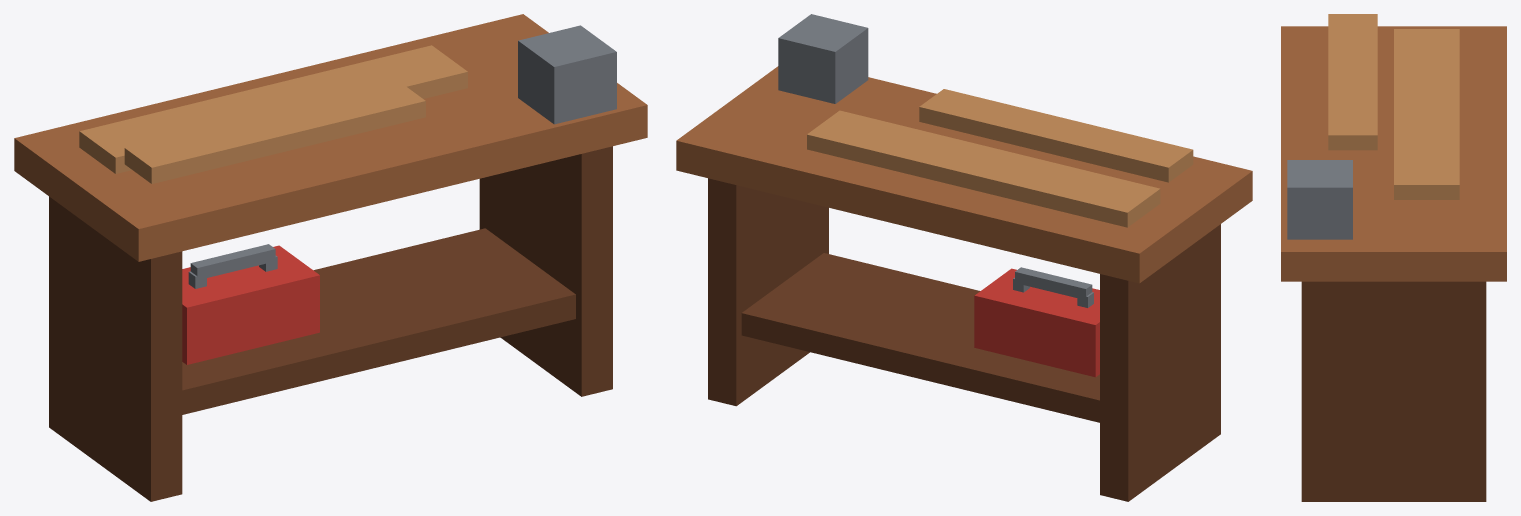
Rendered from a-plank-bench.glb.
The picture shows the model from 3 angles, left to right: view 1: azimuth 30°, elevation 25°; view 2: azimuth 150°, elevation 25°; view 3: azimuth 270°, elevation 25°; orthographic projection. The views are drawn at different scales.
Parts seen in each view (by area): view 1: a-plank-bench; view 2: a-plank-bench; view 3: a-plank-bench.
Boxes of the visible parts, left/top/right/bottom form: a-plank-bench: left=14, top=14, right=647, bottom=501; a-plank-bench: left=676, top=14, right=1252, bottom=501; a-plank-bench: left=1281, top=14, right=1506, bottom=501.
Bounding box in the file's own units: 1.3 × 0.84 × 0.55.
